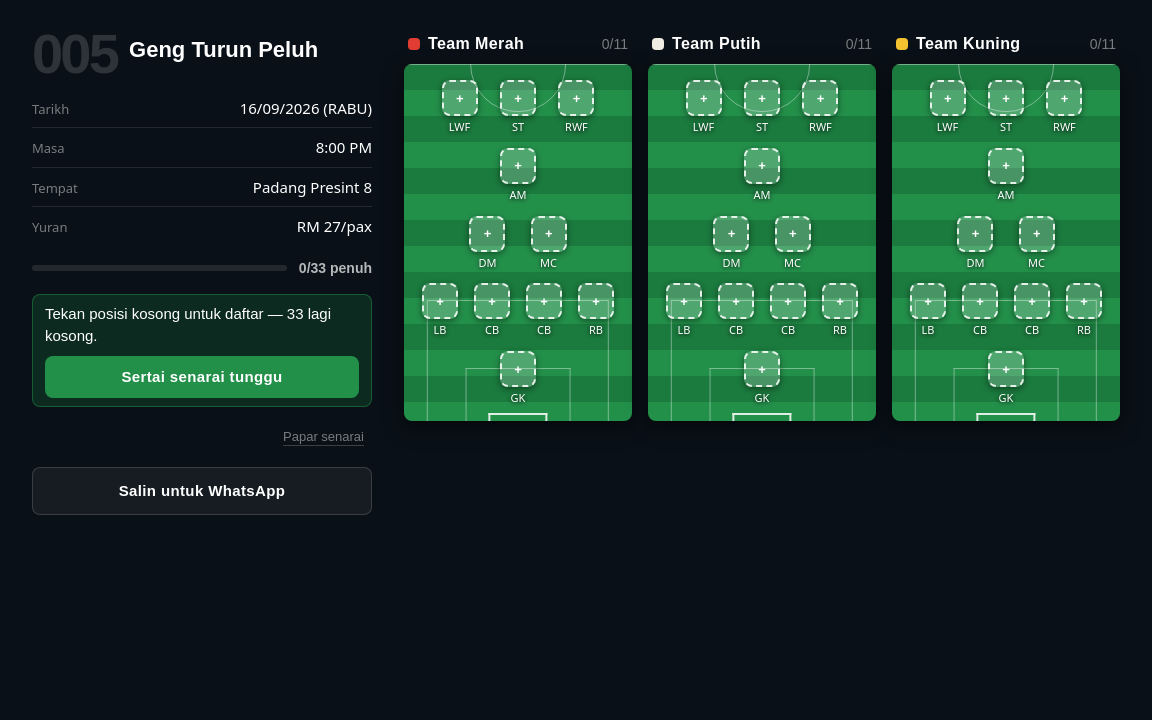
Test case: SessionPage › refuses a phone that is not a Malaysian mobile
Click the button "+ GK" below "Team Merah": (518, 378) left=485, top=351, right=551, bottom=405
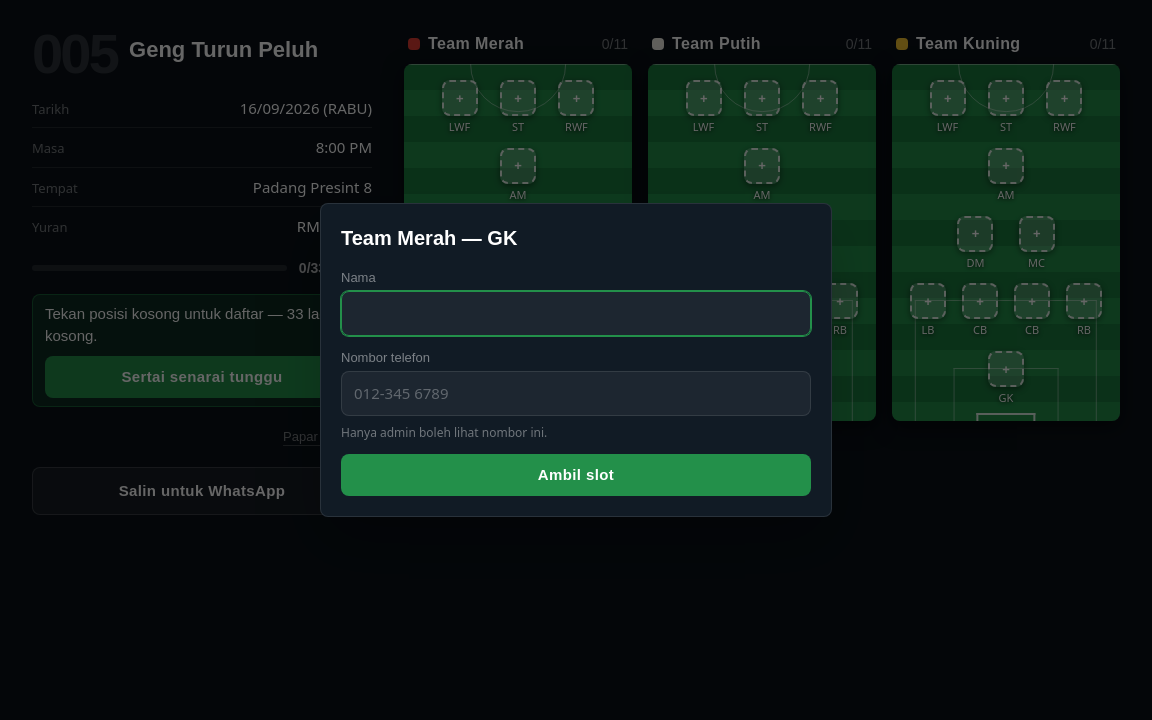
In the field labelled "Nama": (576, 314) left=341, top=291, right=811, bottom=336, type "Hazmi"
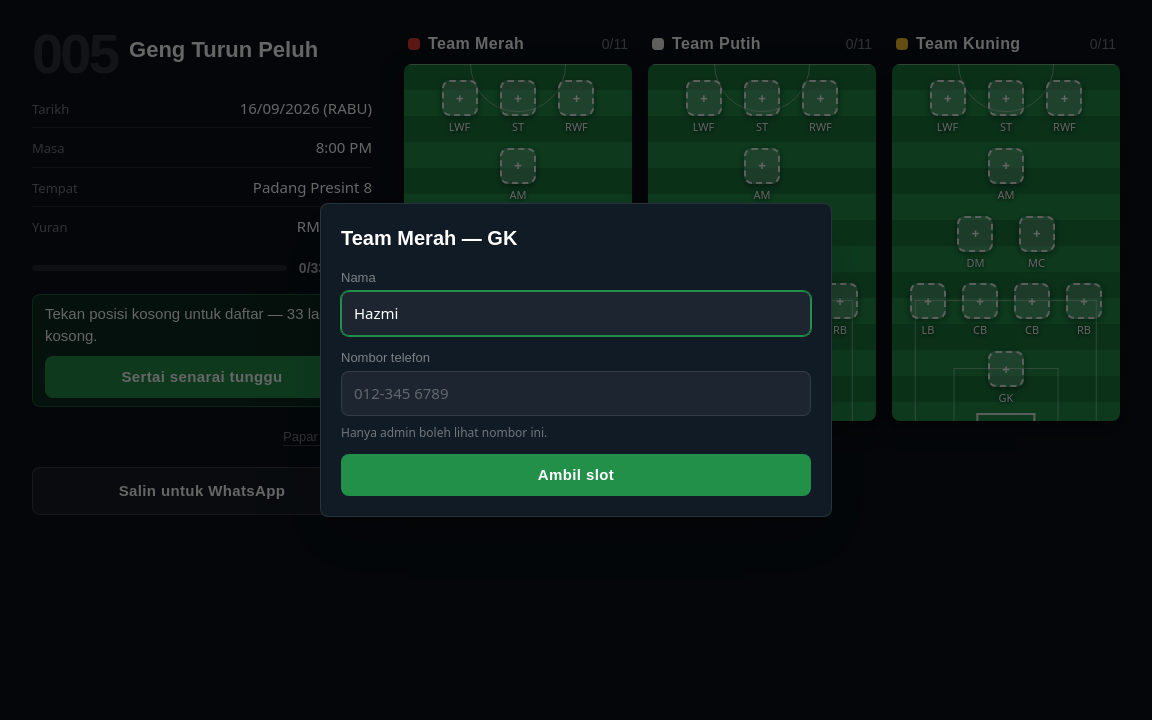
In the field labelled "Nombor telefon": (576, 394) left=341, top=371, right=811, bottom=416, type "03-1234 5678"
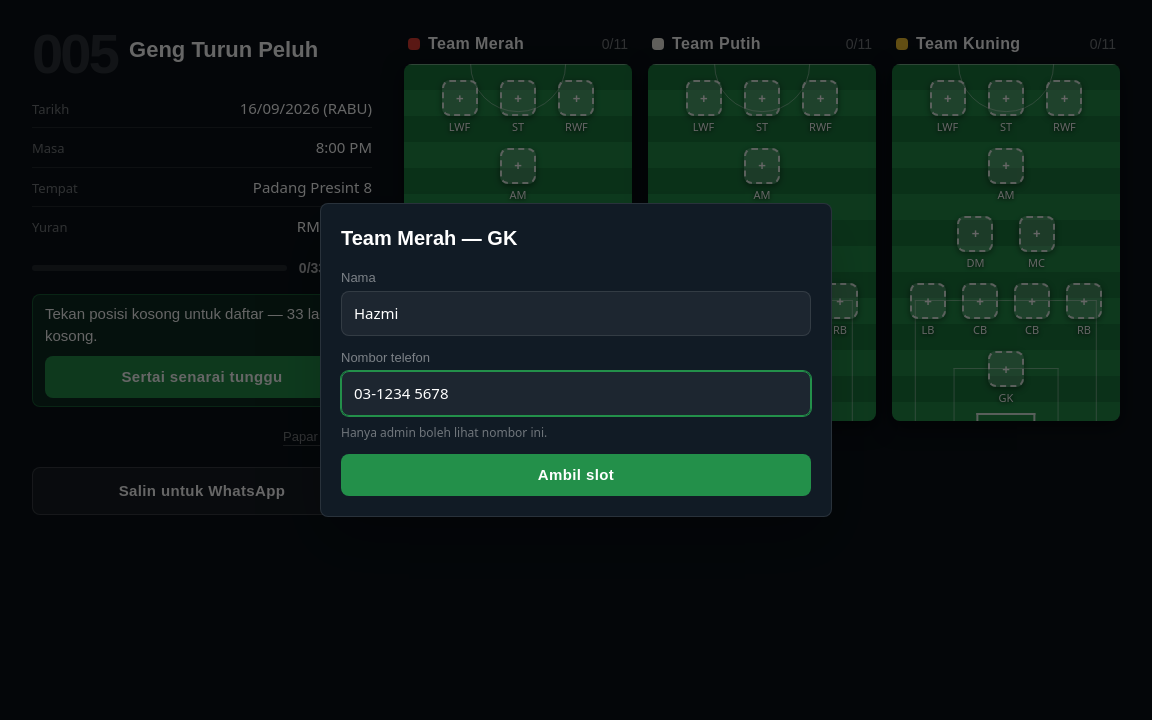
Click the button "Ambil slot": (576, 475) left=341, top=454, right=811, bottom=496
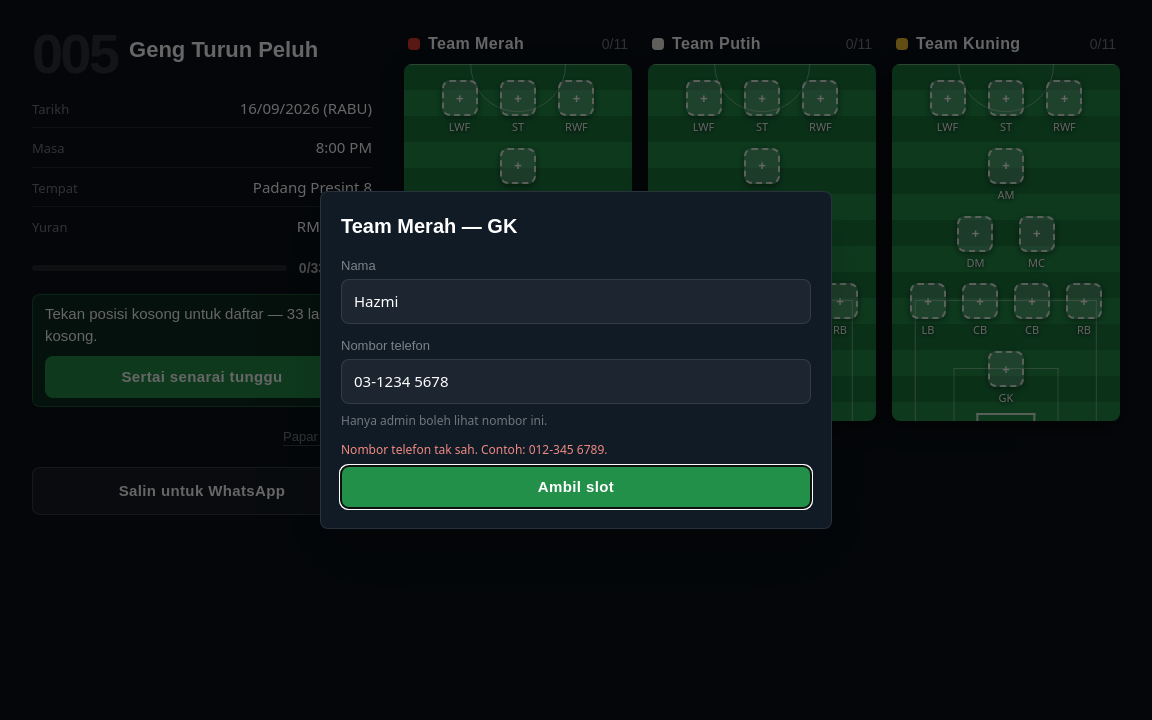
Result: the text "Nombor telefon tak sah. Contoh: 012-345 6789." is shown at left=341, top=441, right=608, bottom=458
